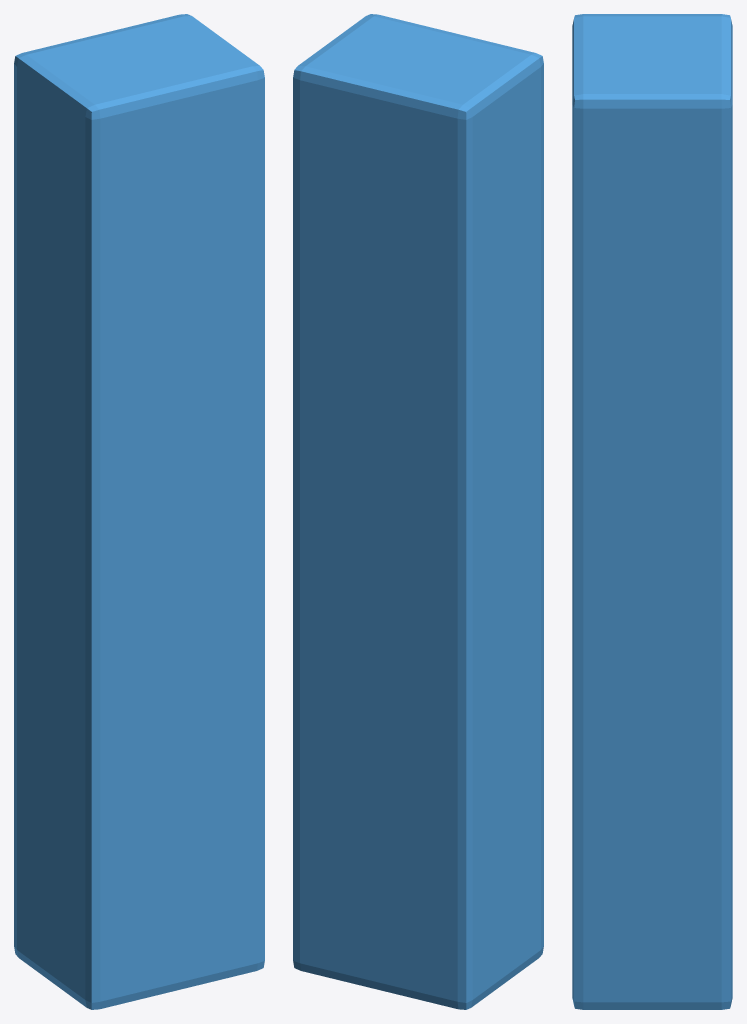
The model's file is back__spine_ridge__base.glb.
3 renders of one model, left to right at view 1: azimuth 30°, elevation 25°; view 2: azimuth 150°, elevation 25°; view 3: azimuth 270°, elevation 25°, orthographic.
Parts seen in each view (by area): view 1: armor_back__spine_ridge__base_v001; view 2: armor_back__spine_ridge__base_v001; view 3: armor_back__spine_ridge__base_v001.
Boxes of the visible parts, bbox=[...] form: armor_back__spine_ridge__base_v001: bbox=[14, 14, 264, 1009]; armor_back__spine_ridge__base_v001: bbox=[293, 14, 543, 1009]; armor_back__spine_ridge__base_v001: bbox=[572, 14, 732, 1009].
Bounding box in the file's own units: 0.0558 × 0.2728 × 0.0434.
